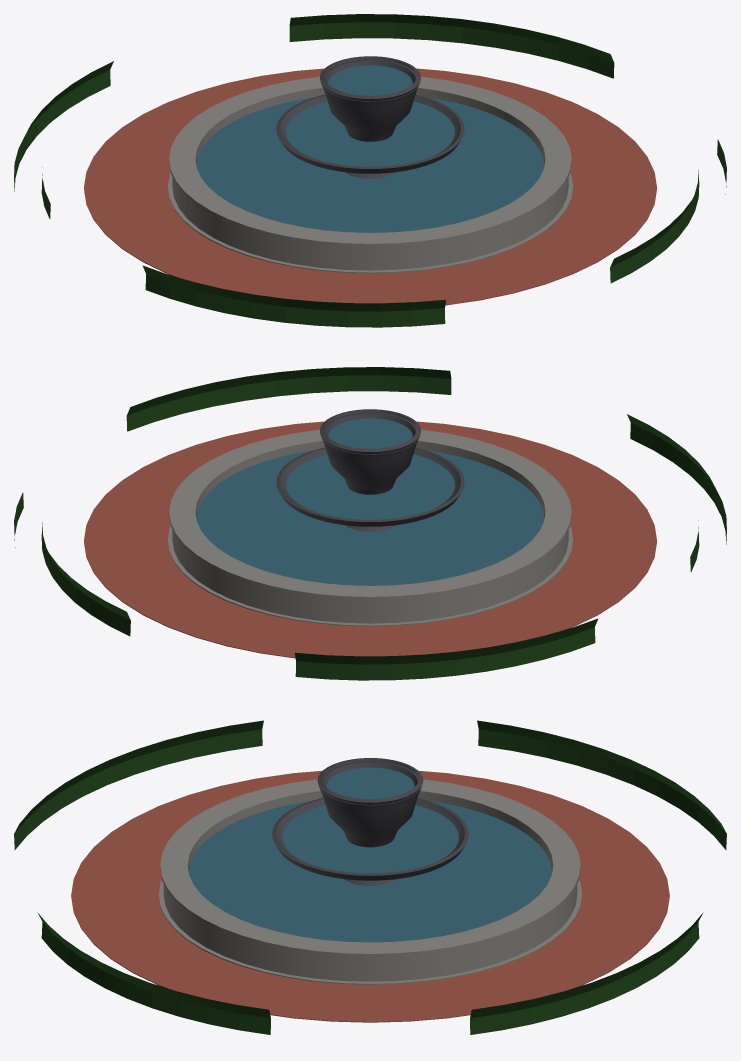
The model's file is fontan_bulvar.lod.glb.
3 views of the same model, one above another, from view 1: azimuth 30°, elevation 25°; view 2: azimuth 150°, elevation 25°; view 3: azimuth 270°, elevation 25° (orthographic). The views are drawn at different scales.
Parts seen in each view (by area): view 1: fontan_bulvar_roof, fontan_bulvar_glass, fontan_bulvar_stone_s, fontan_bulvar_wall2, fontan_bulvar_wall3_s; view 2: fontan_bulvar_roof, fontan_bulvar_glass, fontan_bulvar_stone_s, fontan_bulvar_wall2, fontan_bulvar_wall3_s; view 3: fontan_bulvar_roof, fontan_bulvar_glass, fontan_bulvar_stone_s, fontan_bulvar_wall2, fontan_bulvar_wall3_s.
Part boxes in pixels (bbox=[...]): fontan_bulvar_roof: bbox=[84, 68, 656, 305]; fontan_bulvar_glass: bbox=[196, 65, 544, 232]; fontan_bulvar_stone_s: bbox=[167, 76, 573, 273]; fontan_bulvar_wall2: bbox=[14, 14, 726, 327]; fontan_bulvar_wall3_s: bbox=[196, 56, 544, 178]; fontan_bulvar_roof: bbox=[84, 421, 656, 658]; fontan_bulvar_glass: bbox=[196, 418, 544, 585]; fontan_bulvar_stone_s: bbox=[167, 429, 573, 626]; fontan_bulvar_wall2: bbox=[14, 367, 726, 680]; fontan_bulvar_wall3_s: bbox=[196, 409, 544, 531]; fontan_bulvar_roof: bbox=[71, 770, 669, 1022]; fontan_bulvar_glass: bbox=[188, 767, 552, 942]; fontan_bulvar_stone_s: bbox=[158, 779, 582, 984]; fontan_bulvar_wall2: bbox=[14, 720, 726, 1034]; fontan_bulvar_wall3_s: bbox=[188, 758, 552, 885].
Size of the model in its own units: 17.74 by 3.52 by 17.74.
